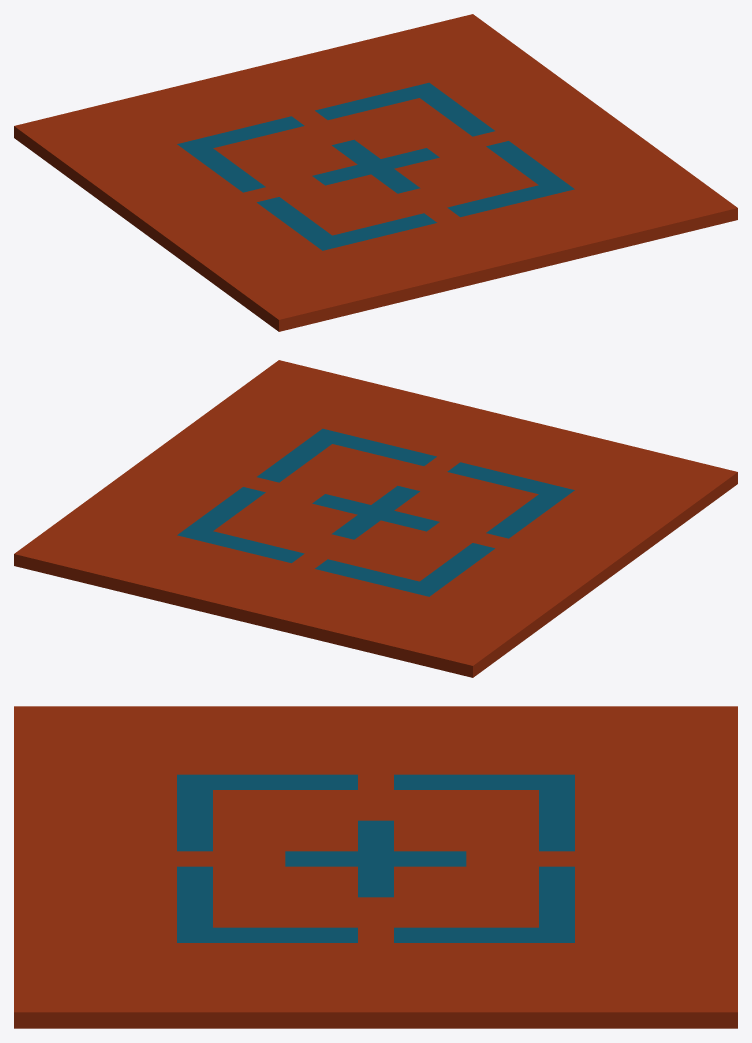
Rendered from TileS_1-3.fbx.
The picture shows the model from 3 angles, top to bottom: view 1: azimuth 30°, elevation 25°; view 2: azimuth 150°, elevation 25°; view 3: azimuth 270°, elevation 25°; orthographic projection. The views are drawn at different scales.
Parts seen in each view (by area): view 1: TileS_1-3; view 2: TileS_1-3; view 3: TileS_1-3.
Part boxes in pixels (left/top/right/bottom): TileS_1-3: left=14, top=14, right=737, bottom=331; TileS_1-3: left=14, top=360, right=737, bottom=677; TileS_1-3: left=14, top=706, right=737, bottom=1028.
Size of the model in its own units: 2 by 2 by 0.051.
